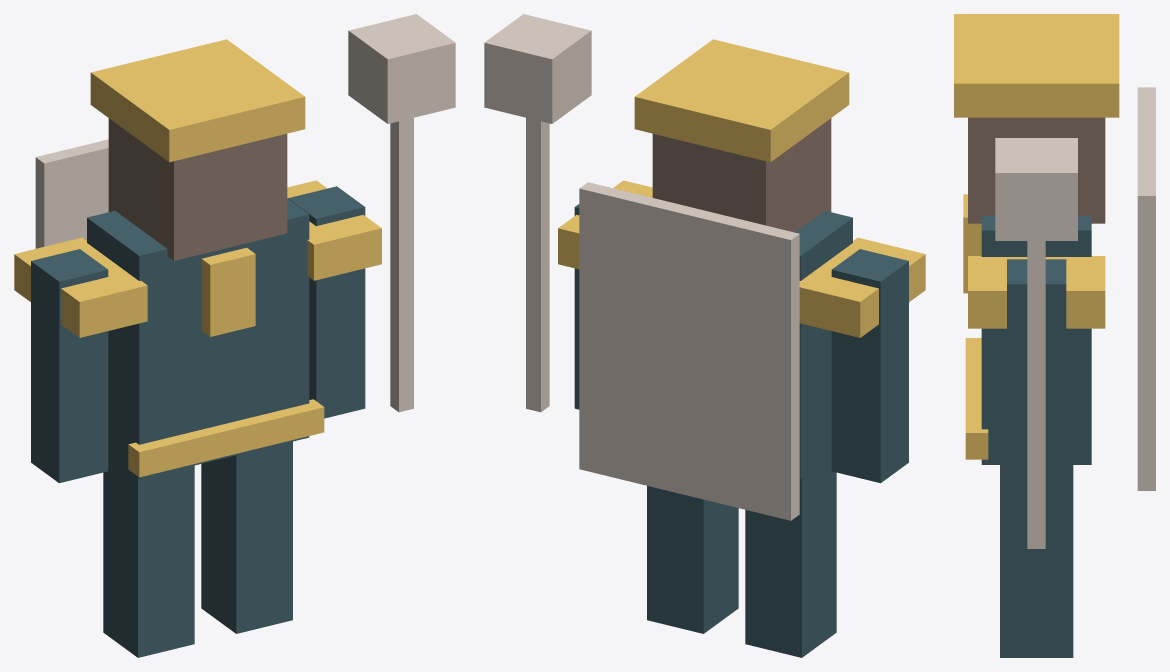
File: 20_korra_gearmantle_navigator_near.glb
3 views of the same model, side by side, from view 1: azimuth 30°, elevation 25°; view 2: azimuth 150°, elevation 25°; view 3: azimuth 270°, elevation 25° (orthographic). The views are drawn at different scales.
Visible parts, largest first — view 1: Korra Gearmantle, Navigator near; view 2: Korra Gearmantle, Navigator near; view 3: Korra Gearmantle, Navigator near.
Part boxes in pixels (x1,y1,x2,y2): Korra Gearmantle, Navigator near: (14, 14, 455, 657); Korra Gearmantle, Navigator near: (484, 14, 925, 657); Korra Gearmantle, Navigator near: (954, 14, 1155, 657).
Bounding box in the file's own units: 1.08 × 1.42 × 0.457.
